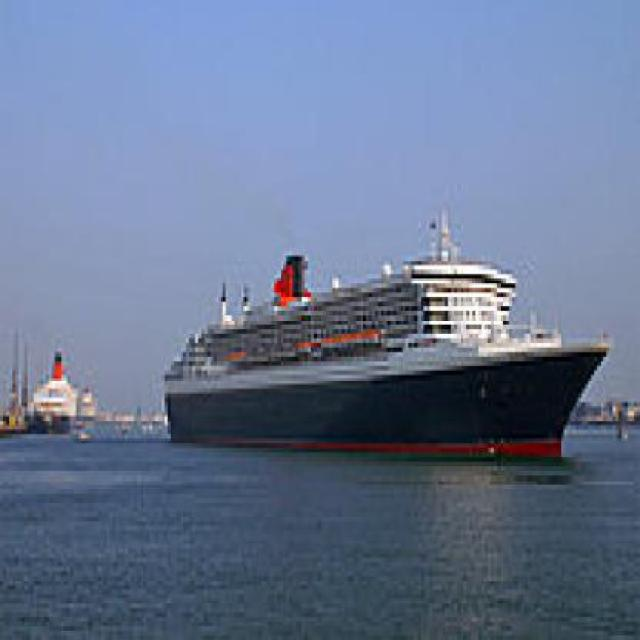cruise: (141, 203, 626, 481)
